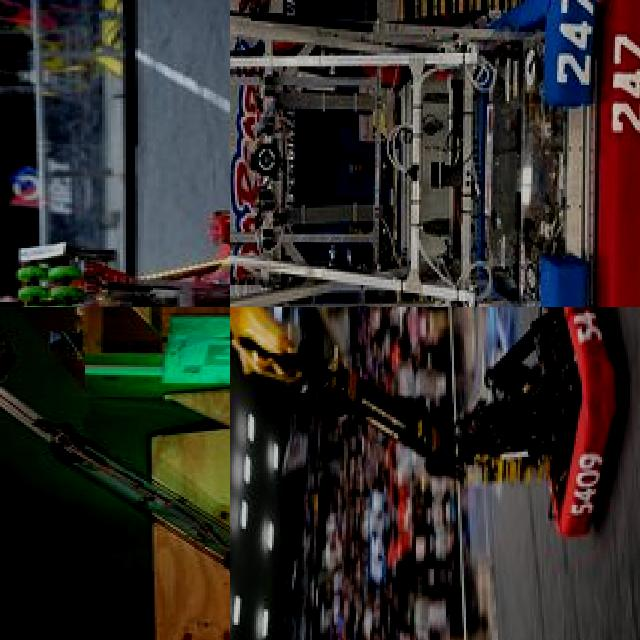FRC-Robots: (230, 0, 609, 307), (230, 307, 632, 553), (0, 307, 230, 640), (0, 111, 230, 307)
